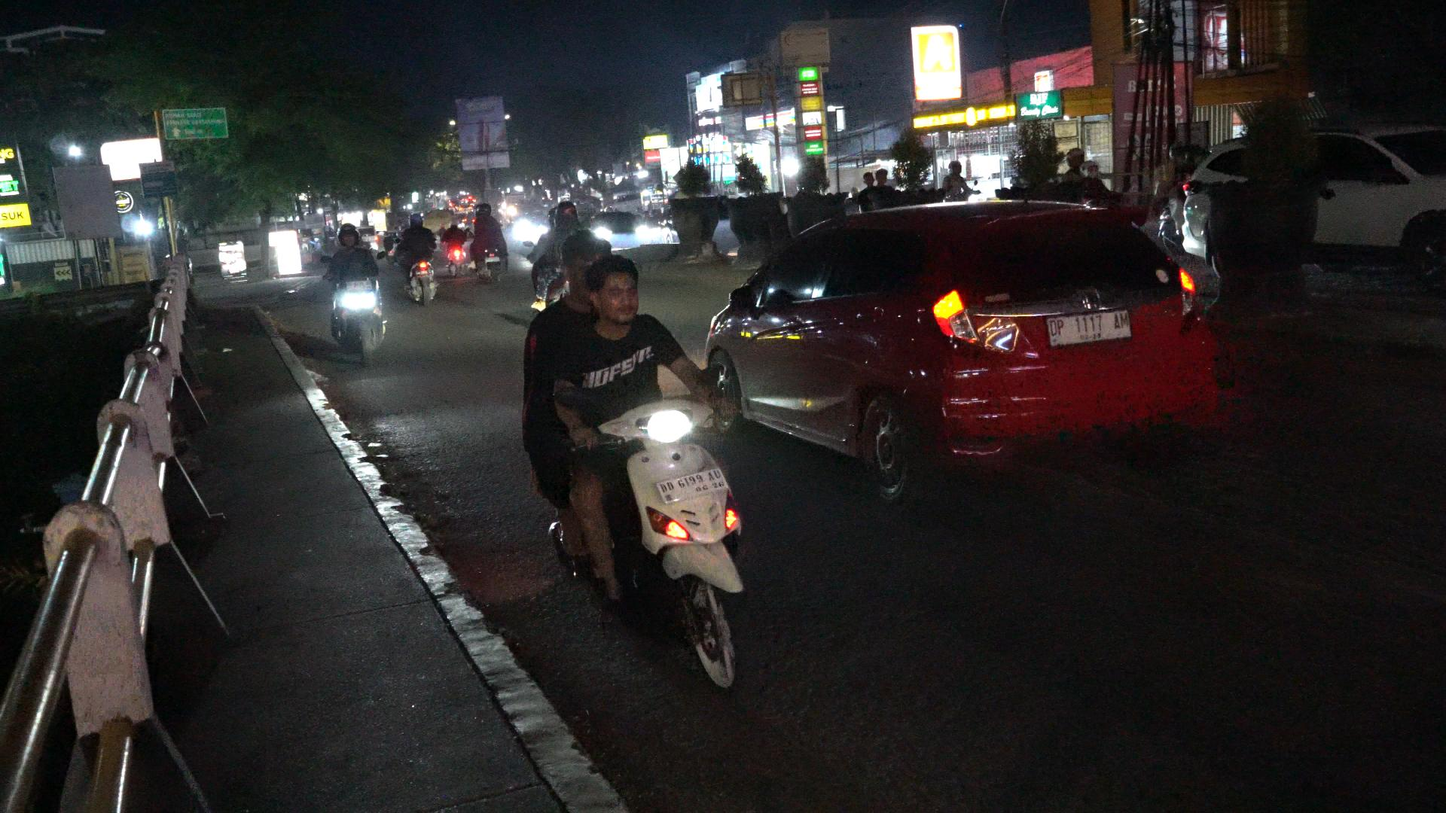number-plate: (657, 465, 730, 502)
